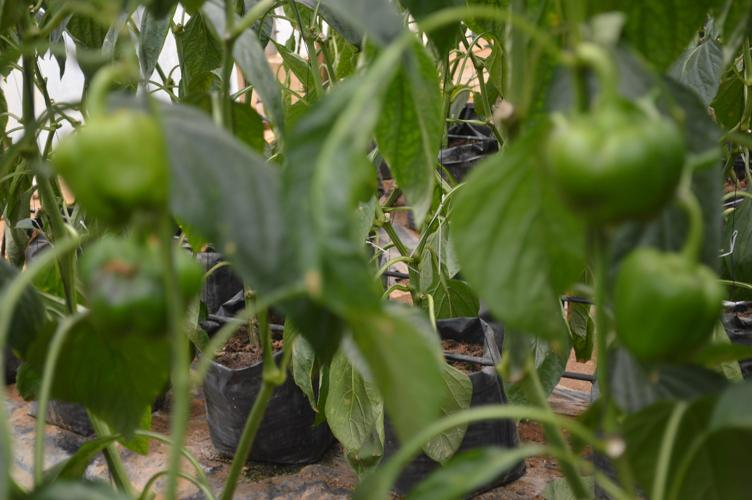BellPepper: (540, 117, 684, 232), (614, 251, 723, 360), (49, 108, 160, 211), (82, 242, 193, 335)
